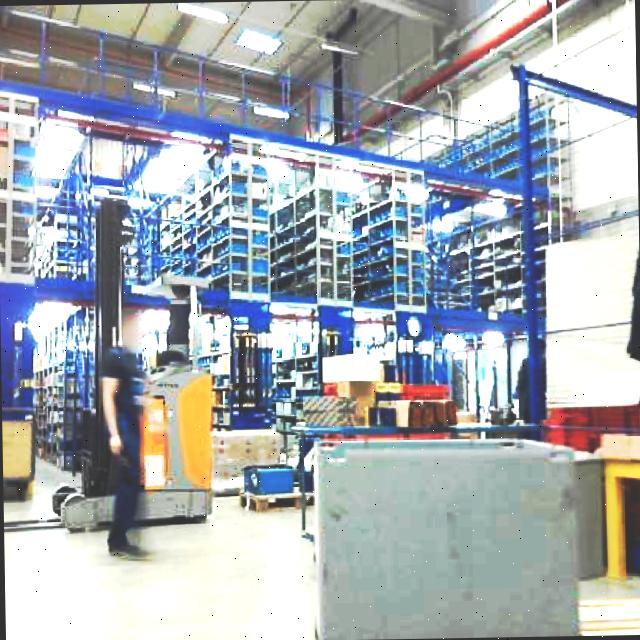ground: (2, 436, 640, 640)
pallet: (21, 85, 570, 481), (132, 100, 563, 322), (307, 431, 601, 639), (422, 91, 566, 314), (56, 360, 214, 529), (573, 428, 640, 634), (347, 167, 428, 312), (295, 376, 460, 436), (0, 85, 41, 275), (596, 430, 640, 581), (210, 427, 283, 491), (238, 462, 313, 511), (1, 405, 35, 501), (576, 596, 640, 634), (240, 489, 313, 511), (406, 396, 457, 426)
